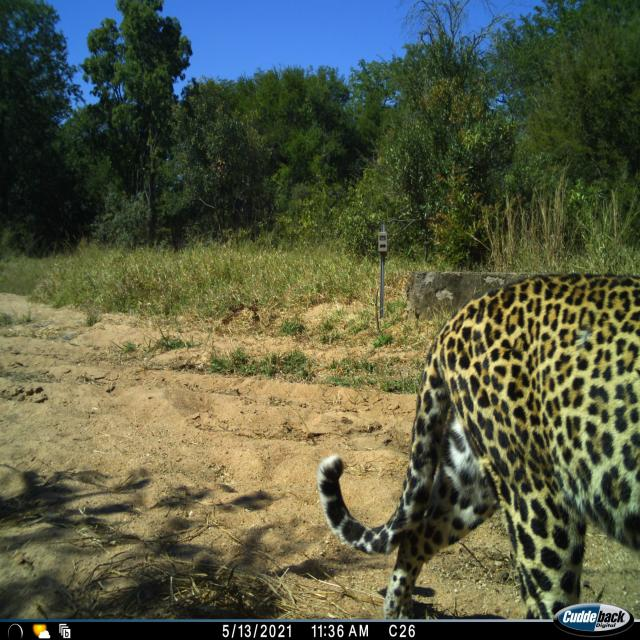Leopard: (310, 257, 639, 638)
